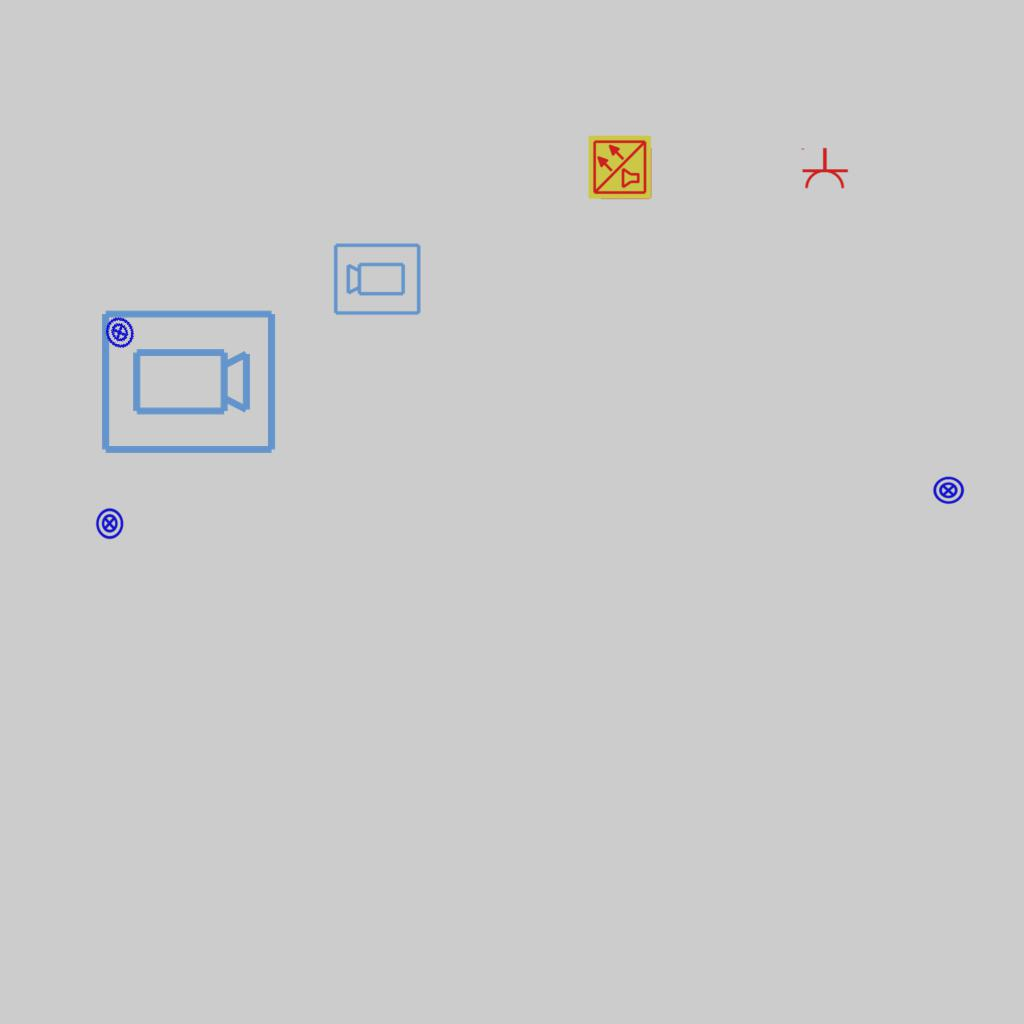KFO_Kamera_mit_Festobjektiv: (97, 306, 279, 460), (332, 240, 423, 317)
OKW_Multisensormelder_(Kombination_optischer_Rauch-Kahlenmonoxid_Waerme-Melder): (587, 134, 653, 200)
Schukosteckdose_einfach: (799, 147, 849, 190)
Taster_beleuchtet: (97, 310, 142, 355), (93, 507, 126, 540), (932, 474, 965, 507)
